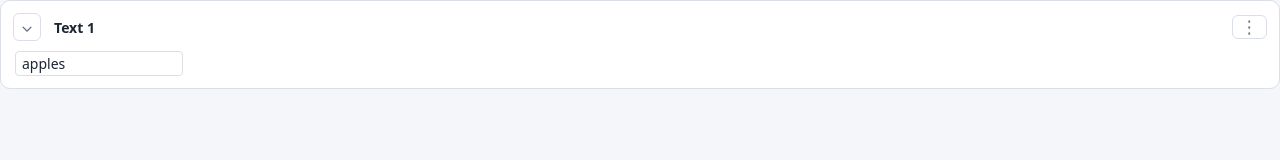
Test case: TextCard › shows an error beside a text-view input when its commit is refused
The image size is (1280, 160).
Replace the text in the field named "Text input" with "new name". click: (99, 64)
box: [15,51,183,76]
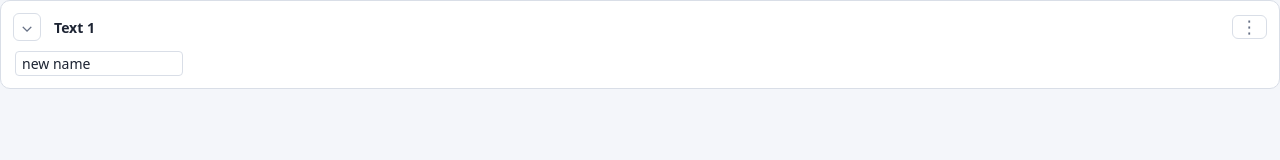
Press Enter in the field named "Text input", box [15,51,183,76]
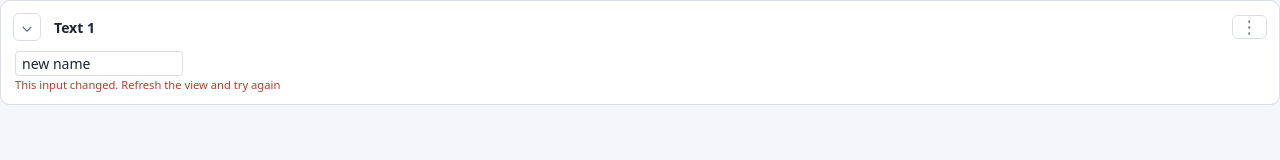
Result: the field labelled "This input changed. Refresh the view and try again" holds "new name" at [15,51,183,76]
Result: the message "This input changed. Refresh the view and try again" is shown at [15,78,280,92]
